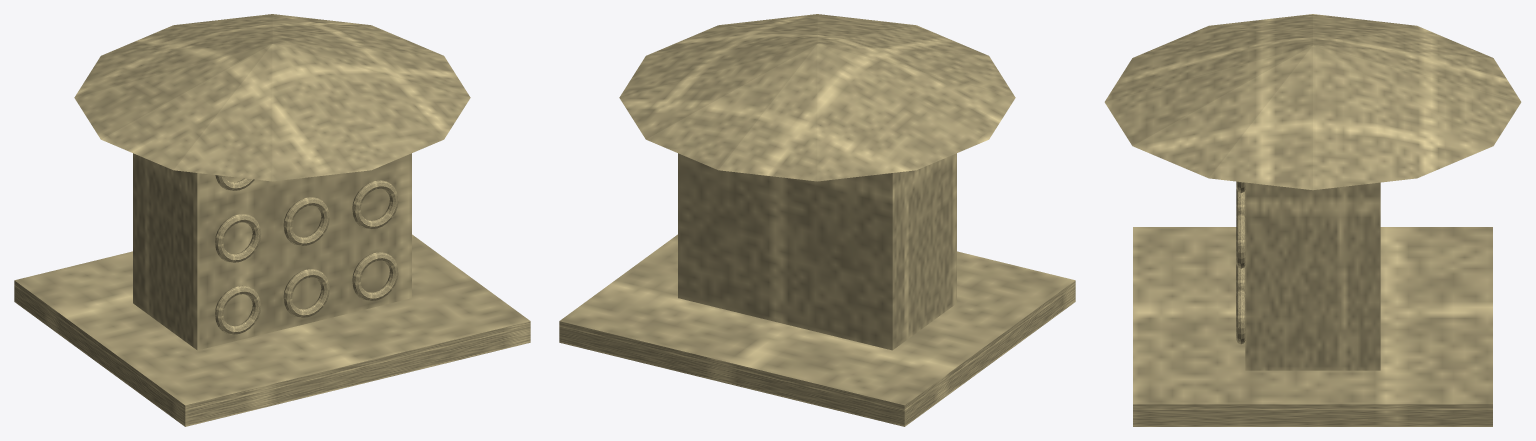
Rendered from bone_ossuary_01.glb.
The picture shows the model from 3 angles, left to right: view 1: azimuth 30°, elevation 25°; view 2: azimuth 150°, elevation 25°; view 3: azimuth 270°, elevation 25°; orthographic projection. The views are drawn at different scales.
Parts seen in each view (by area): view 1: Roof, Foundation, Ossuary, AncestorSeal.004, AncestorSeal.007, AncestorSeal, AncestorSeal.006, AncestorSeal.001, AncestorSeal.003; view 2: Roof, Ossuary, Foundation; view 3: Roof, Foundation, Ossuary, AncestorSeal.007, AncestorSeal.006.
Part boxes in pixels (bbox=[...]): Roof: bbox=[74, 14, 470, 181]; Foundation: bbox=[14, 234, 530, 426]; Ossuary: bbox=[133, 153, 411, 350]; AncestorSeal.004: bbox=[283, 197, 329, 245]; AncestorSeal.007: bbox=[352, 180, 398, 229]; AncestorSeal: bbox=[215, 285, 261, 334]; AncestorSeal.006: bbox=[352, 252, 398, 300]; AncestorSeal.001: bbox=[215, 214, 261, 262]; AncestorSeal.003: bbox=[283, 269, 329, 317]; Roof: bbox=[619, 14, 1015, 181]; Ossuary: bbox=[678, 153, 956, 350]; Foundation: bbox=[559, 234, 1075, 426]; Roof: bbox=[1104, 14, 1521, 190]; Foundation: bbox=[1133, 227, 1492, 426]; Ossuary: bbox=[1245, 182, 1380, 370]; AncestorSeal.007: bbox=[1236, 214, 1245, 268]; AncestorSeal.006: bbox=[1236, 289, 1245, 344].
Bounding box in the file's own units: 4.03 × 3.1 × 4.
Materials: 1 (1 with a texture image).
